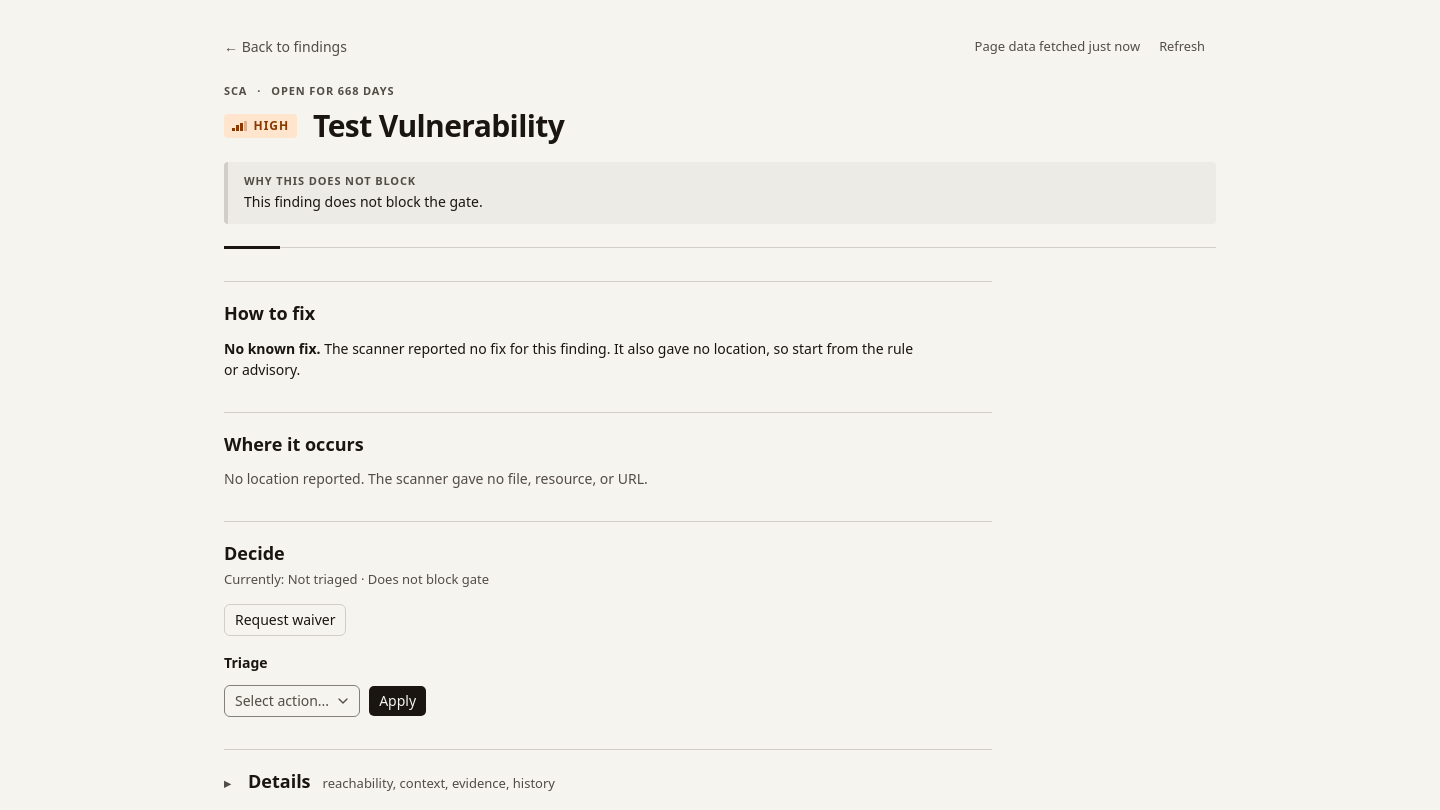
Test: FindingDetail accessibility › exposes a failed triage through an alert
Check: the heading "Test Vulnerability" is shown, box [313,109,564,142]
Click the dropdown named "Triage action" at (292, 701), box [224,685,360,717]
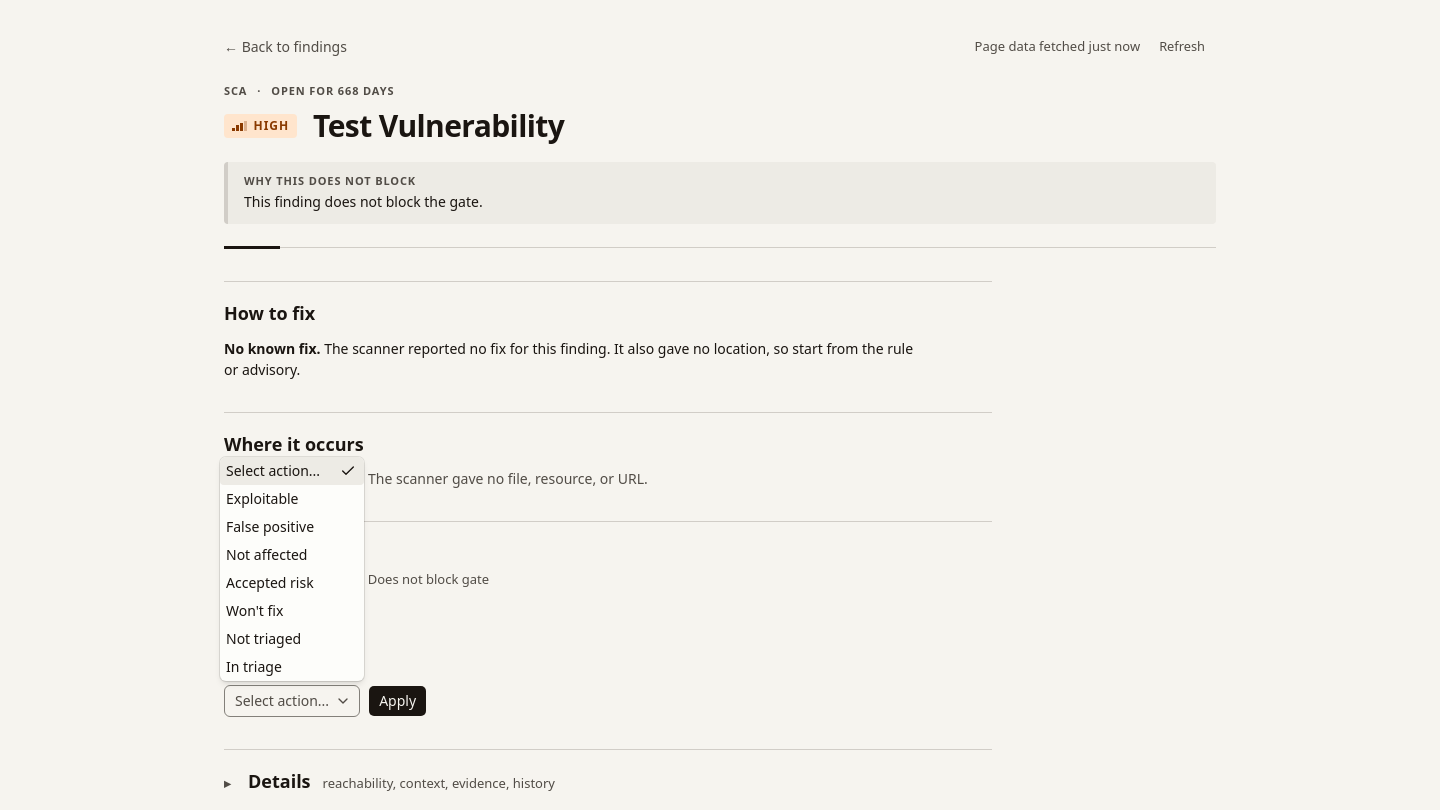
Click the option "Exploitable" at (262, 498), box [226,489,298,508]
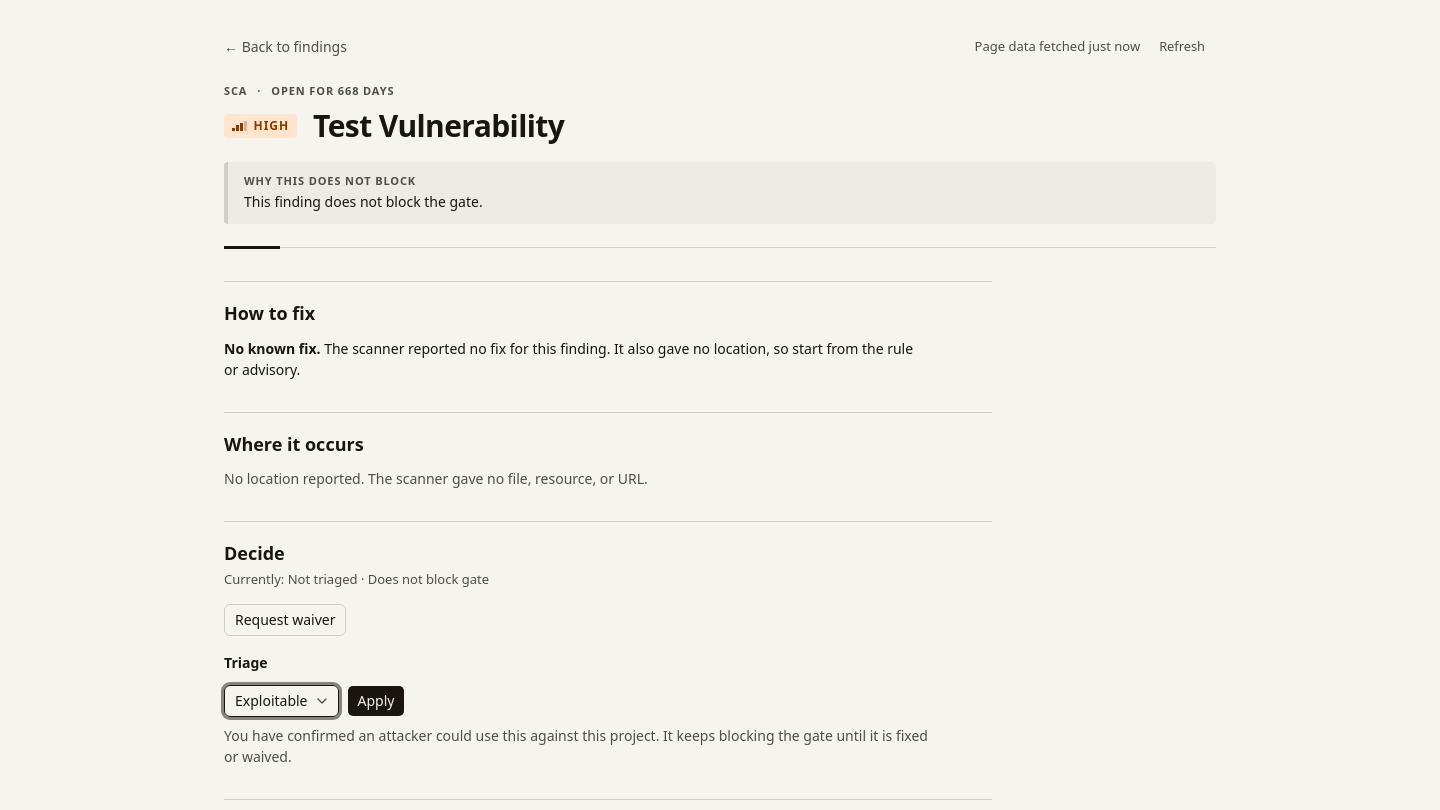
Click the button "Apply" at (376, 701), box [346,685,405,717]
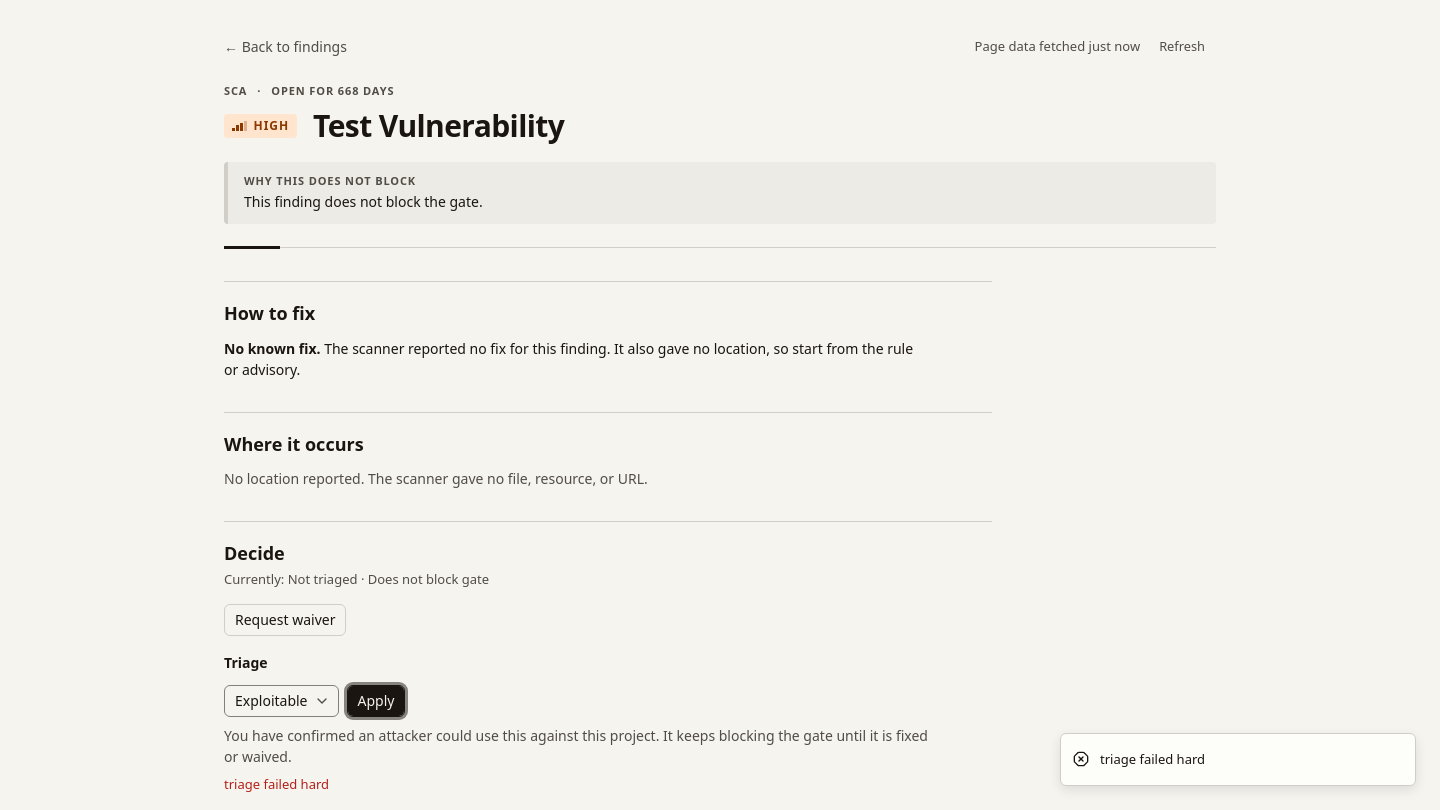
Check: the message named "Triage result error" reads "triage failed hard", box [224,775,329,793]
